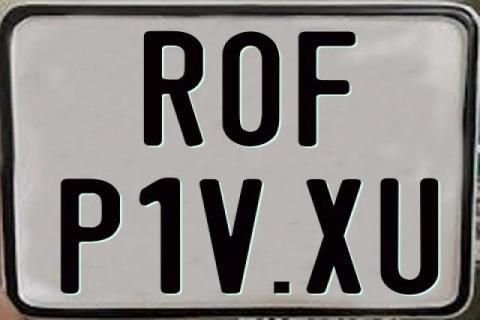0: (219, 31, 283, 148), (136, 176, 183, 297)
F: (297, 30, 359, 150)
P: (59, 177, 122, 292)
R: (144, 31, 206, 148)
U: (380, 176, 439, 292)
V: (196, 179, 260, 295)
X: (303, 177, 360, 296)
